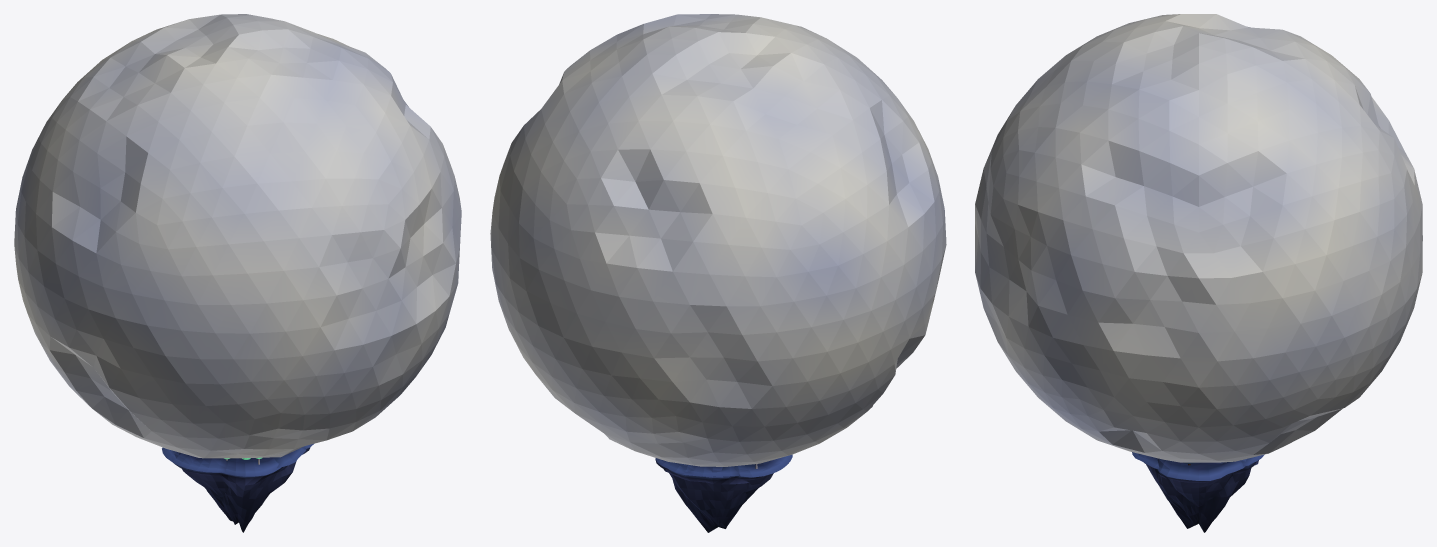
The model's file is isle-night-B2pfD0CI.glb.
3 renders of one model, left to right at view 1: azimuth 30°, elevation 25°; view 2: azimuth 150°, elevation 25°; view 3: azimuth 270°, elevation 25°, orthographic.
Parts seen in each view (by area): view 1: far, isle_2, isle_1; view 2: far, isle_2, isle_1, isle_0; view 3: far, isle_1, isle_2.
Part boxes in pixels (box(x1,y1,x2,y2)): far: box(14, 14, 461, 458); isle_2: box(206, 457, 296, 532); isle_1: box(162, 444, 313, 507); far: box(490, 14, 946, 466); isle_2: box(655, 458, 749, 532); isle_1: box(732, 454, 792, 507); isle_0: box(656, 458, 739, 477); far: box(975, 14, 1422, 462); isle_1: box(1154, 458, 1246, 506); isle_2: box(1146, 459, 1256, 532).
Bounding box in the file's own units: 298 × 363 × 297.
